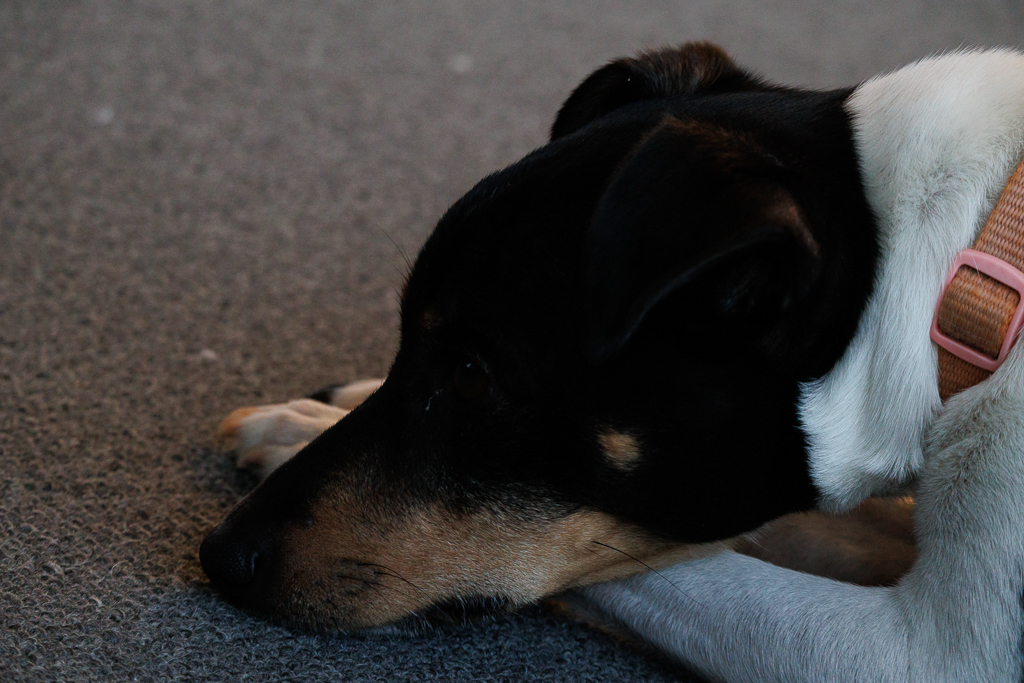Dog: (192, 35, 1024, 683)
